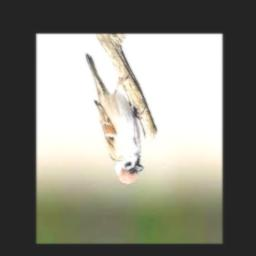Sparrow: (86, 54, 143, 185)
